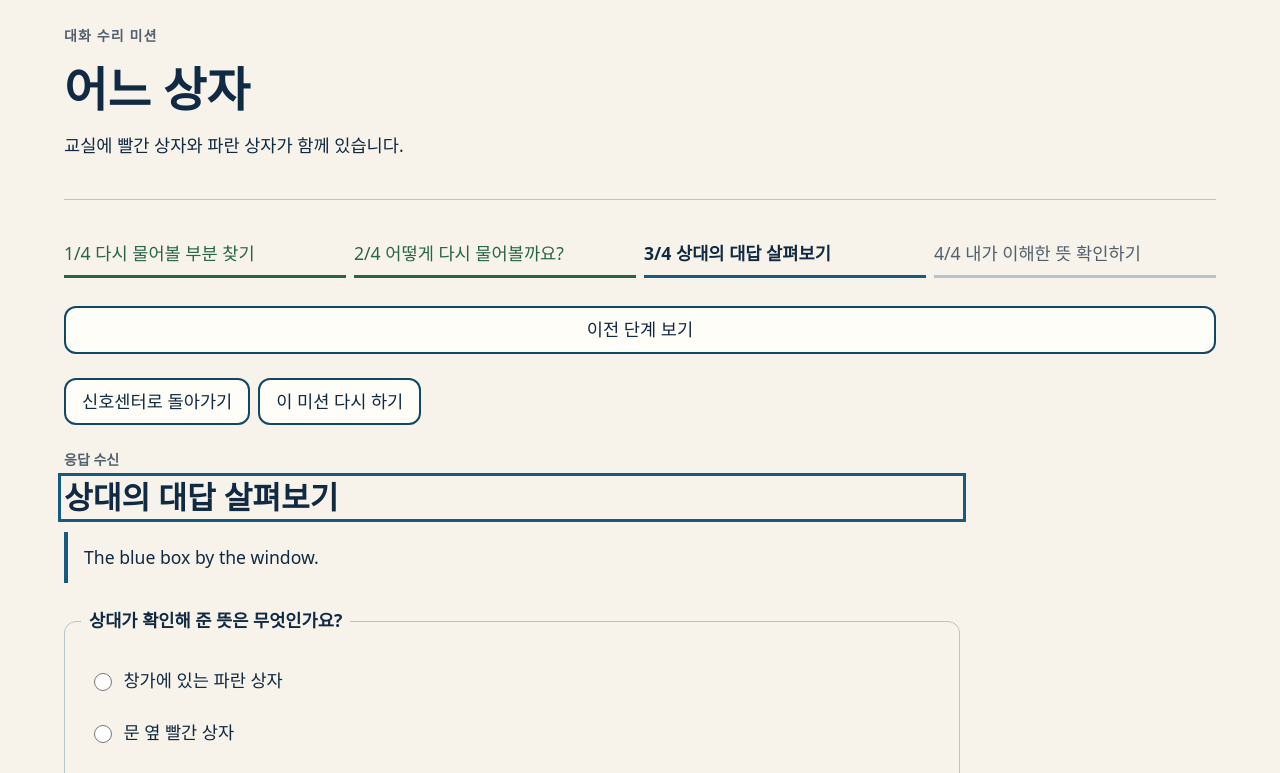
it: ResponseReception › advances to confirmation after the accepted meaning
What coordinates should you click on to do the following:
click the radio button labelled "창가에 있는 파란 상자"
I would click on:
 (103, 682)
Its box is [94, 673, 112, 691].
(page scrolled)
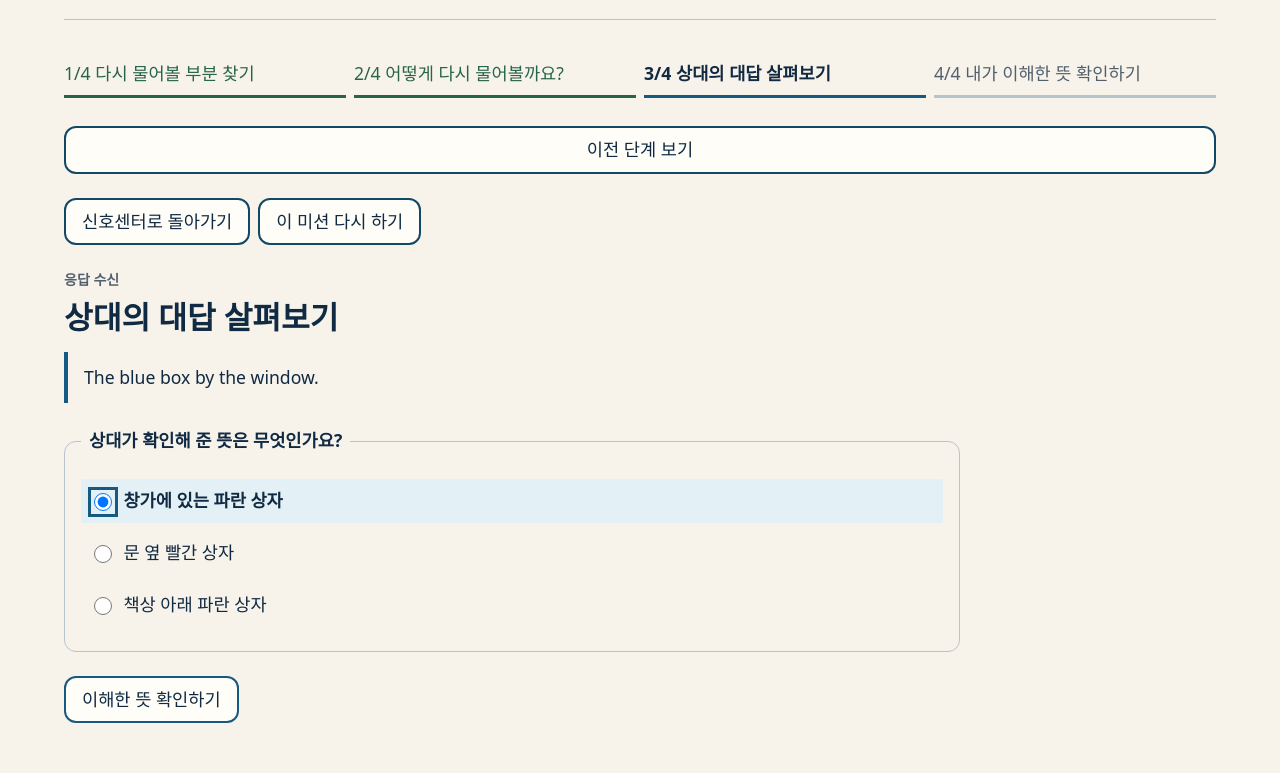
What coordinates should you click on to do the following:
click the button "이해한 뜻 확인하기"
I would click on:
 (151, 699)
Its box is [64, 676, 239, 723].
(page scrolled)
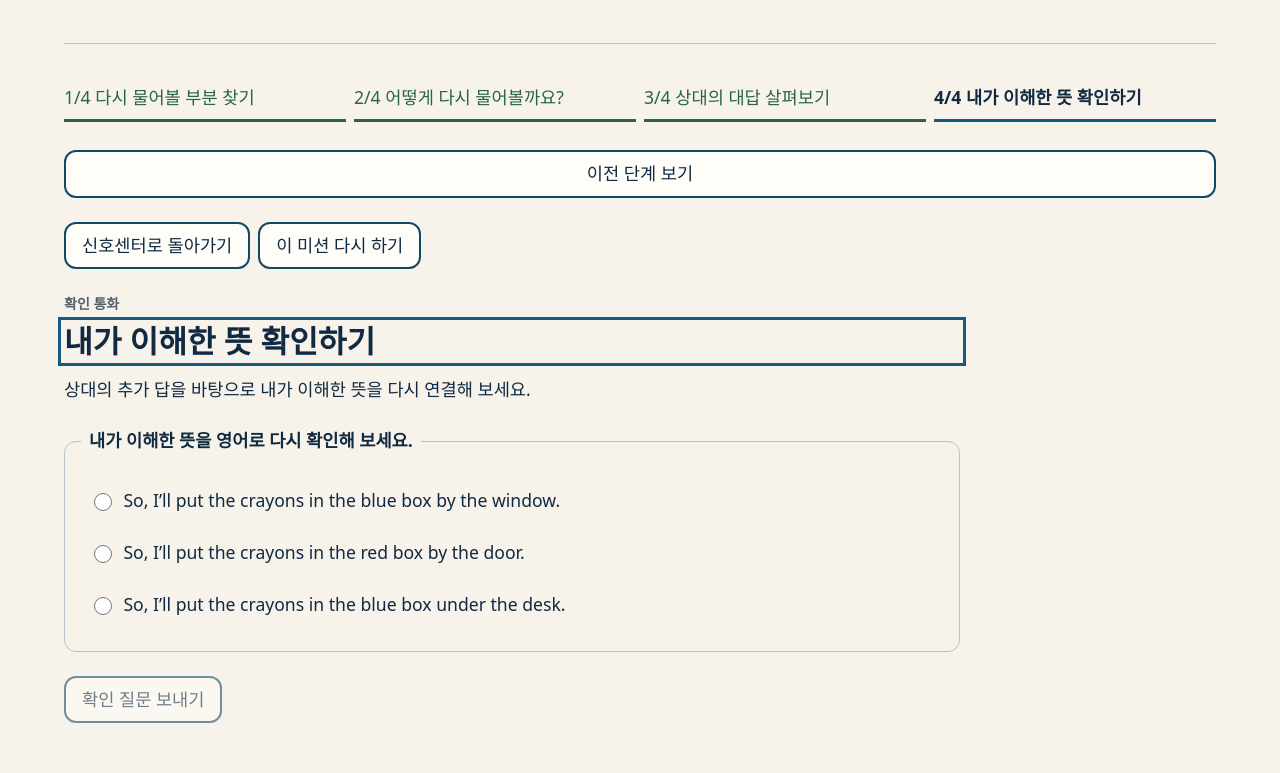
Expected: the heading "내가 이해한 뜻 확인하기" is shown, [64, 320, 375, 362]
